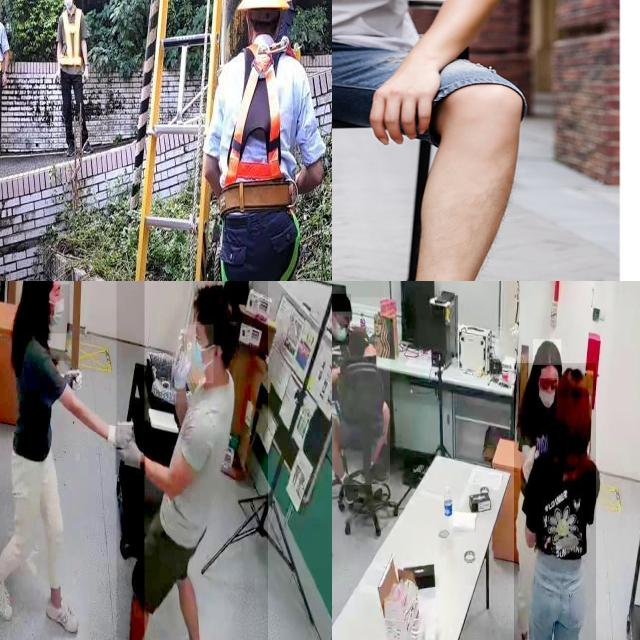Harness: (216, 37, 301, 281)
face_mask: (186, 325, 214, 383), (44, 284, 70, 334), (535, 378, 557, 412), (332, 316, 349, 346)
hand_glove: (116, 425, 146, 475), (105, 406, 135, 452)
head_nohelmet: (193, 281, 242, 322), (555, 366, 589, 398), (533, 339, 562, 366), (332, 293, 351, 312)
person: (116, 281, 268, 640), (0, 281, 144, 640), (513, 363, 596, 640), (332, 297, 390, 485)
shoes: (41, 588, 80, 640), (363, 448, 391, 489), (0, 567, 16, 624), (338, 464, 358, 509), (514, 626, 533, 640)
